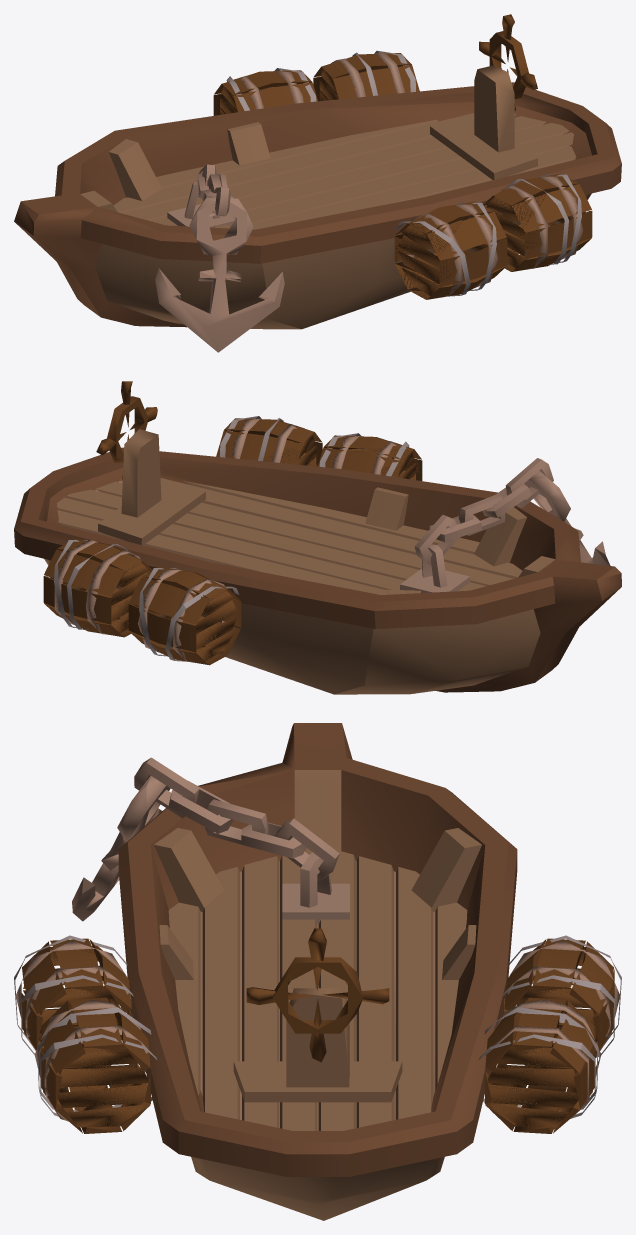
File: Ship_Small.gltf
The picture shows the model from 3 angles, top to bottom: view 1: azimuth 30°, elevation 25°; view 2: azimuth 150°, elevation 25°; view 3: azimuth 270°, elevation 25°; orthographic projection. The views are drawn at different scales.
Parts seen in each view (by area): view 1: Ship_Small; view 2: Ship_Small; view 3: Ship_Small.
Part boxes in pixels (left/top/right/bottom): Ship_Small: left=14, top=14, right=621, bottom=352; Ship_Small: left=14, top=381, right=621, bottom=694; Ship_Small: left=14, top=723, right=621, bottom=1220.
Bounding box in the file's own units: 5.13 × 1.98 × 3.57.
1 material, 1 textured.
